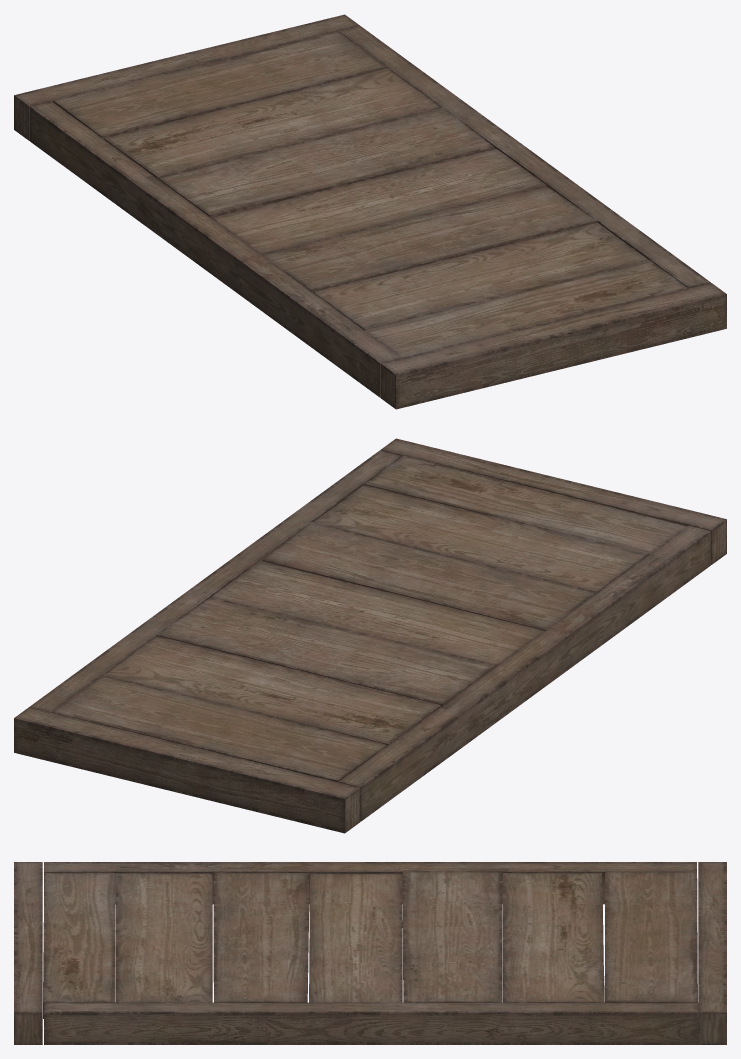
Rendered from SM_GPG_Floor01a.fbx.
The picture shows the model from 3 angles, top to bottom: view 1: azimuth 30°, elevation 25°; view 2: azimuth 150°, elevation 25°; view 3: azimuth 270°, elevation 25°; orthographic projection. The views are drawn at different scales.
Parts seen in each view (by area): view 1: SM_GPG_Floor01a; view 2: SM_GPG_Floor01a; view 3: SM_GPG_Floor01a.
Part boxes in pixels (x1=…): SM_GPG_Floor01a: x1=14, y1=14, x2=726, y2=409; SM_GPG_Floor01a: x1=14, y1=438, x2=726, y2=833; SM_GPG_Floor01a: x1=14, y1=862, x2=726, y2=1044.
Size of the model in its own units: 150 by 300 by 15.67.
1 material, 1 textured.
